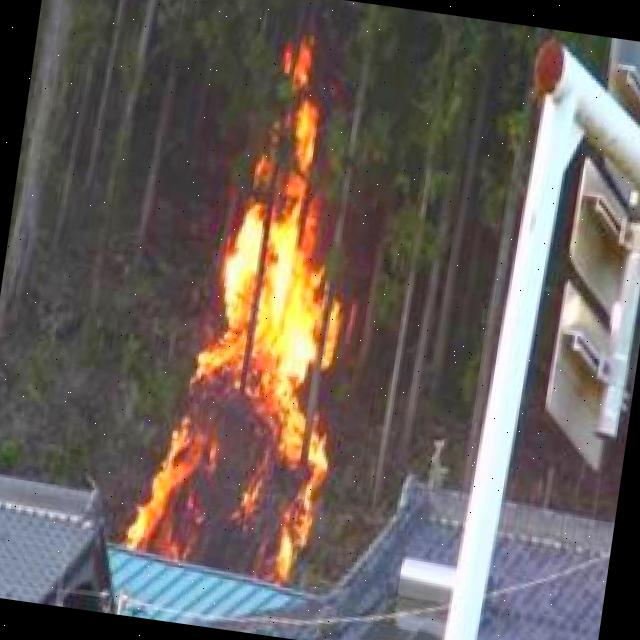fire: (127, 92, 378, 582)
